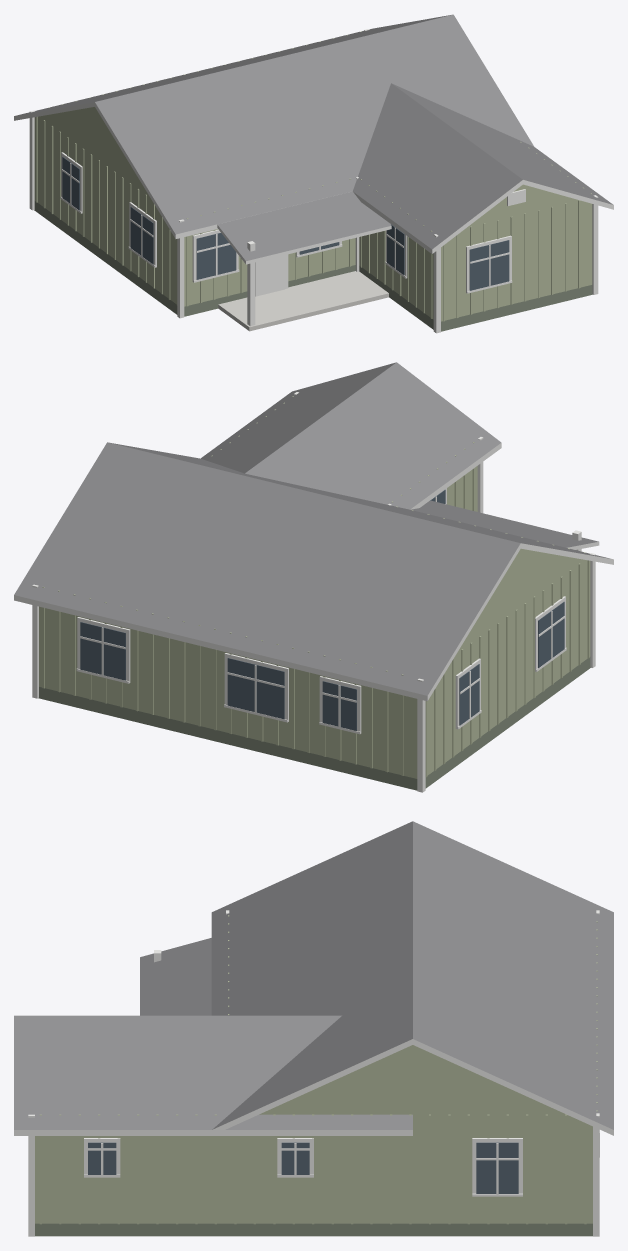
Rendered from pistachio-sage.glb.
3 views of the same model, one above another, from view 1: azimuth 30°, elevation 25°; view 2: azimuth 150°, elevation 25°; view 3: azimuth 270°, elevation 25° (orthographic). The views are drawn at different scales.
Parts seen in each view (by area): view 1: The Pistachio (sage); view 2: The Pistachio (sage); view 3: The Pistachio (sage).
Boxes of the visible parts, <box> form: The Pistachio (sage): <box>14,14,613,333</box>; The Pistachio (sage): <box>14,362,613,792</box>; The Pistachio (sage): <box>14,821,613,1236</box>.
Bounding box in the file's own units: 11.12 × 4.88 × 12.95.
